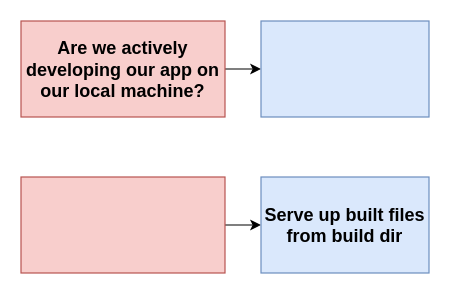
This 450x294 diagram has some shape labels left out. Each missing label, with the centre of its shape:
"Are we running our app on a user's machine?" goes at point (122, 224).
"Use proxy to local CRA dev server" goes at point (344, 68).
